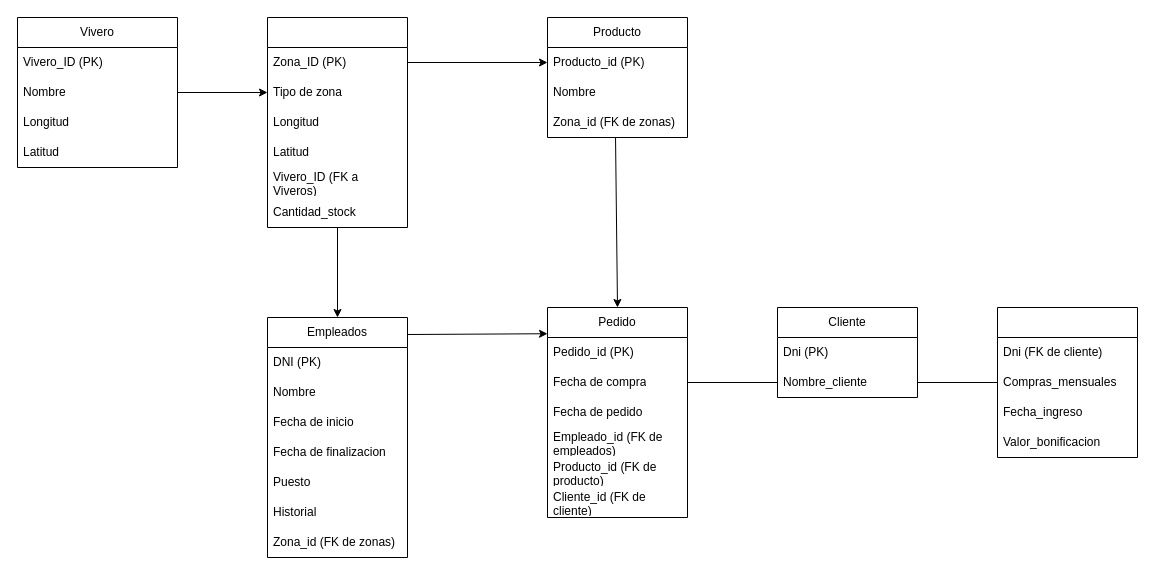
Some shapes in this 1155 by 575 pixel diagram are drawn without their labels. Each missing label, with the box of its shape:
Cliente Afiliado: (996, 306, 1138, 458)
Zonas: (266, 16, 408, 228)
